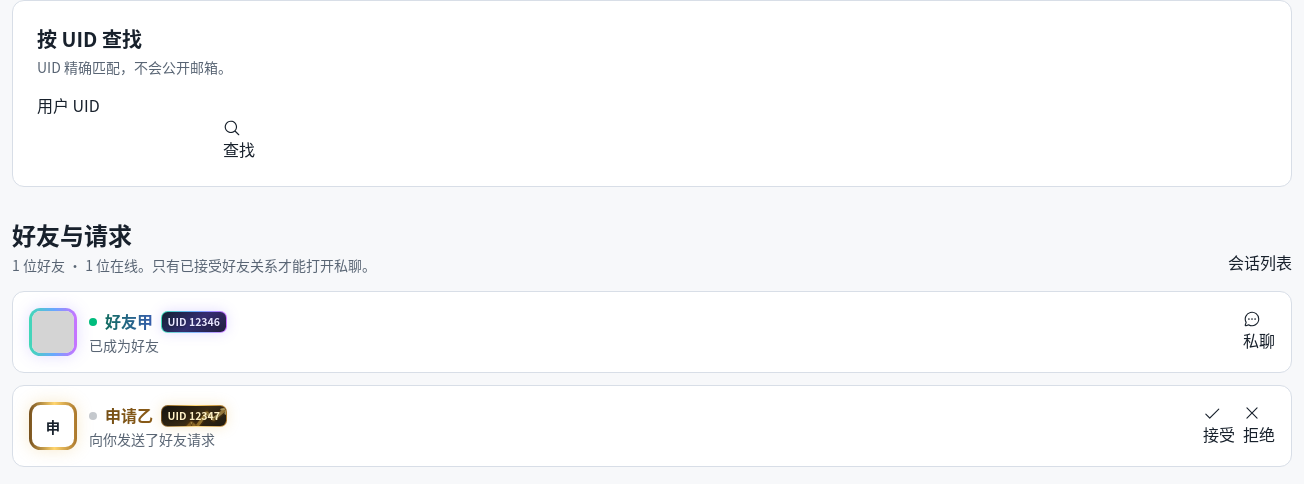
Test case: discards a previous account's conversation action response
expect the text "好友甲" is shown: met, box [105,309,153,333]
Step 1. Click the button "私聊" → (1259, 332), box [1243,310,1275,354]
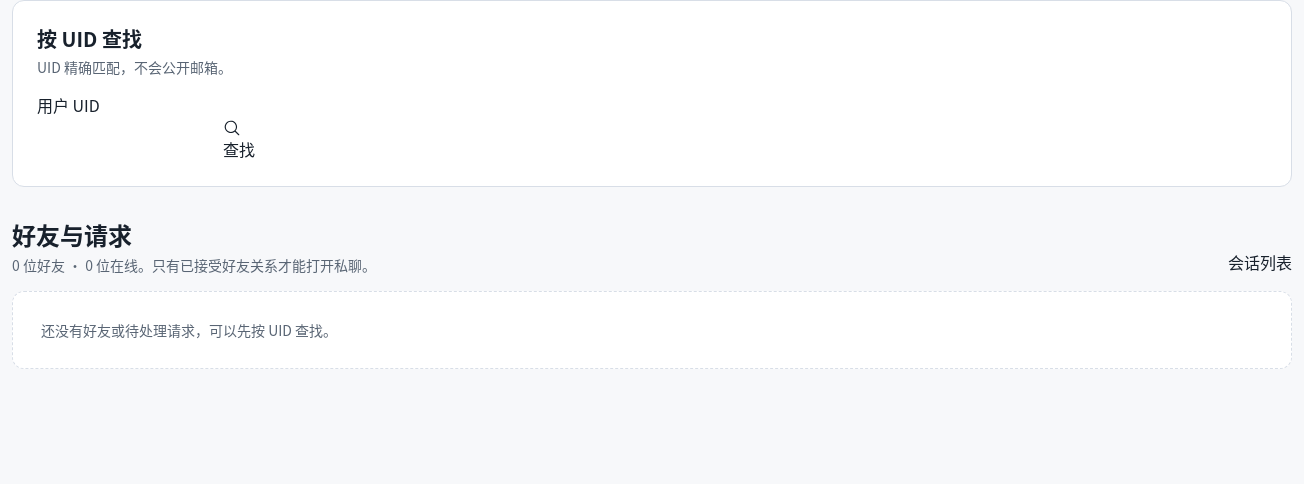
expect the link "好友甲" is gone: met
